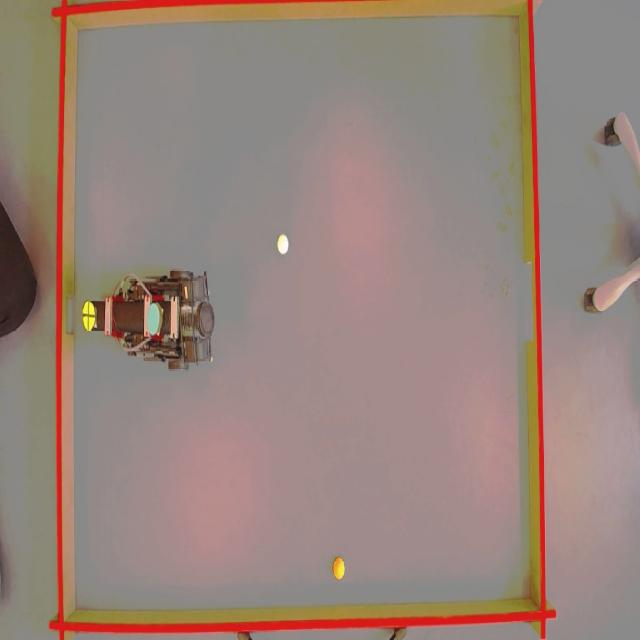orange: (332, 558, 347, 581)
robot: (74, 272, 222, 374)
robot-front: (82, 300, 96, 332)
robot-rear: (146, 299, 161, 334)
white: (275, 233, 289, 255)
